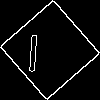I: (25, 25, 42, 72)
